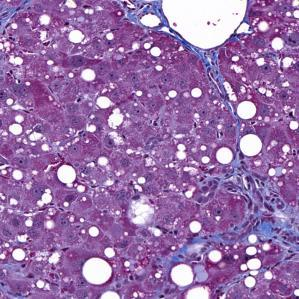fibrosis: (231, 165, 296, 248)
